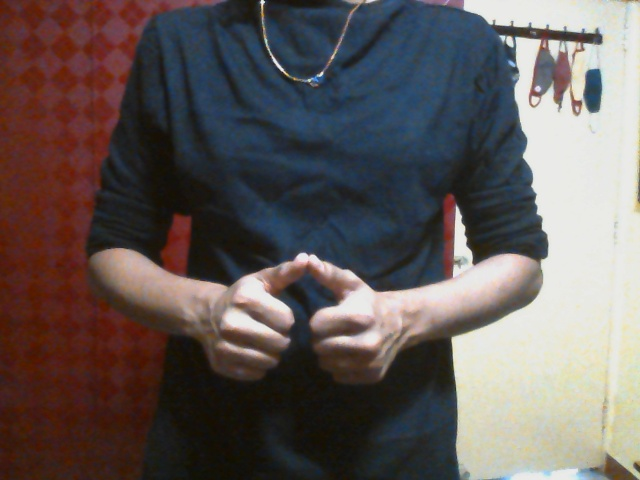A: (205, 251, 391, 387)
